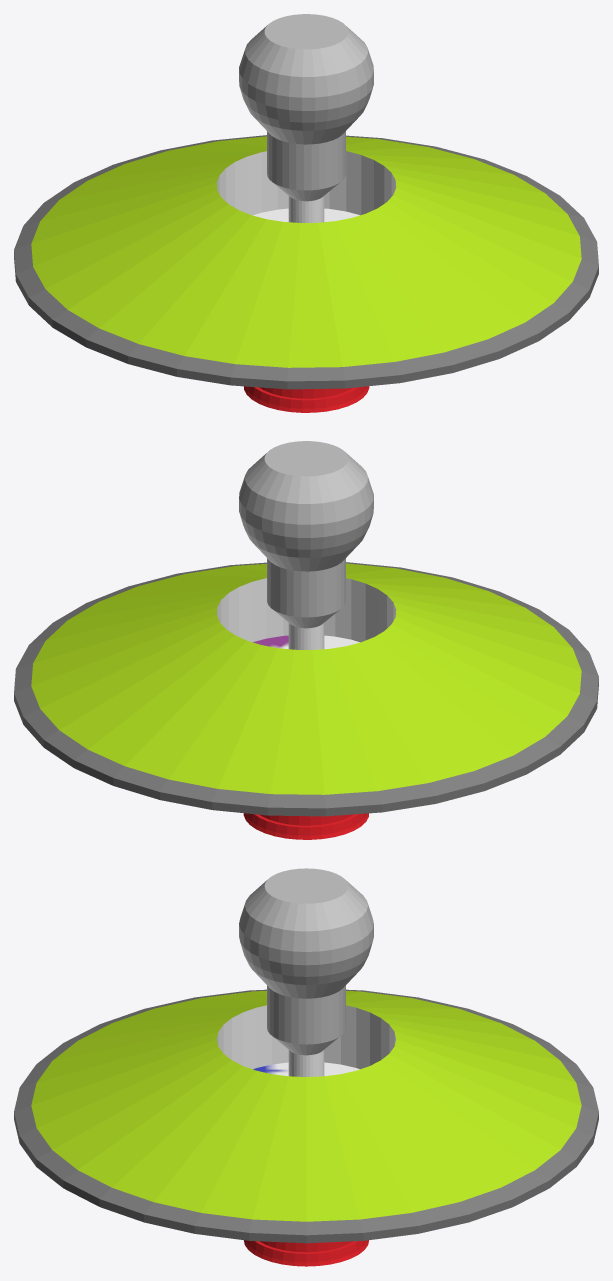
Rendered from alienShip.fbx.
The picture shows the model from 3 angles, top to bottom: view 1: azimuth 30°, elevation 25°; view 2: azimuth 150°, elevation 25°; view 3: azimuth 270°, elevation 25°; orthographic projection.
Parts seen in each view (by area): view 1: alien ship; view 2: alien ship; view 3: alien ship.
Boxes of the visible parts, left/top/right/bottom form: alien ship: left=14, top=14, right=598, bottom=412; alien ship: left=14, top=441, right=598, bottom=839; alien ship: left=14, top=868, right=598, bottom=1266.
Size of the model in its own units: 467 by 312 by 467.
